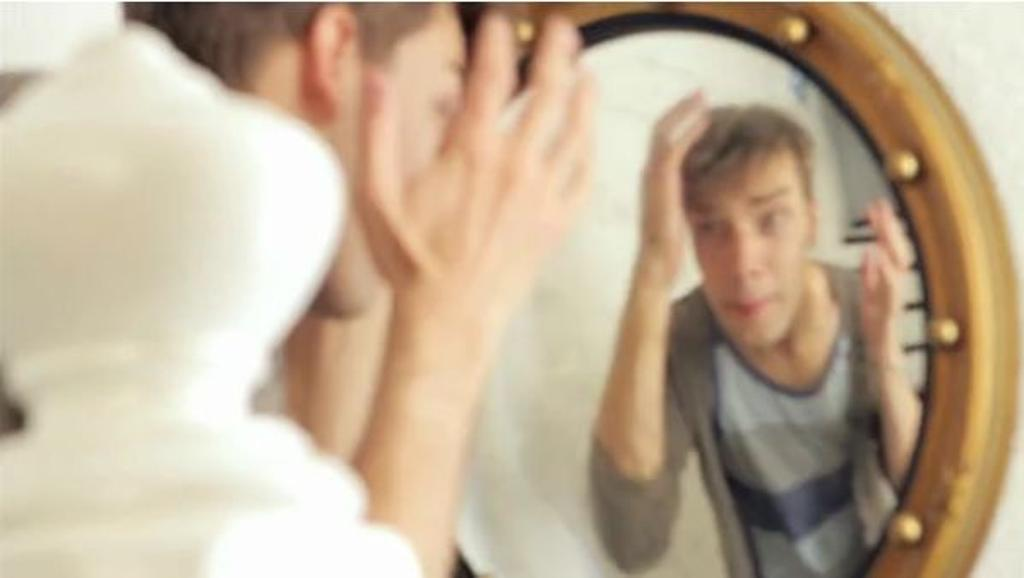face: (690, 168, 814, 348)
